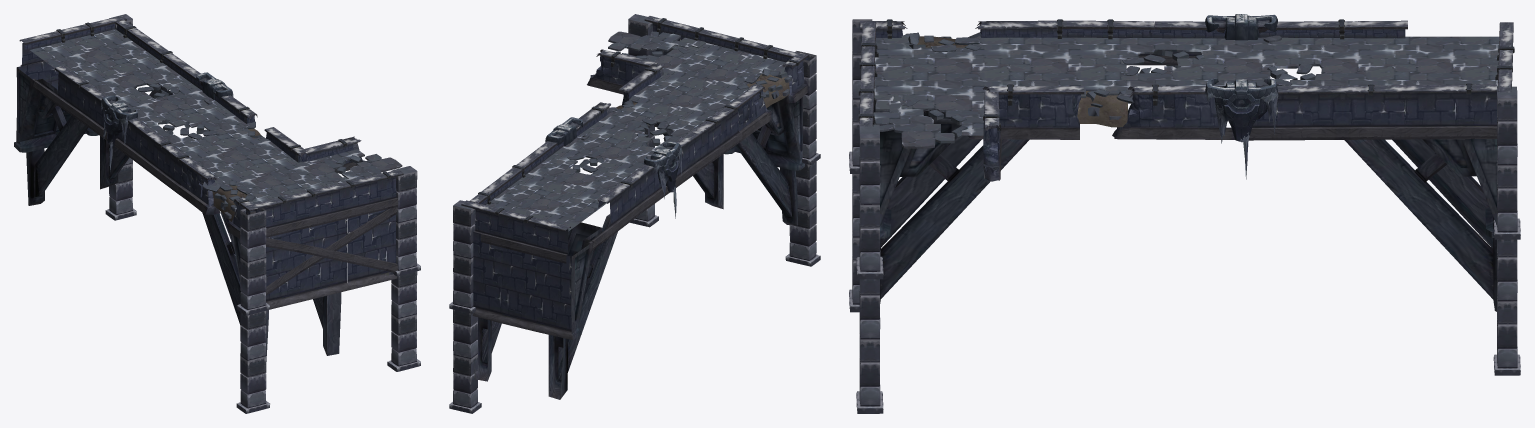
Rendered from Bedaying_yzqiao02.FBX.
The picture shows the model from 3 angles, left to right: view 1: azimuth 30°, elevation 25°; view 2: azimuth 150°, elevation 25°; view 3: azimuth 270°, elevation 25°; orthographic projection. The views are drawn at different scales.
Visible parts, largest first — view 1: Bedaying_yzqiao, Bedaying_yzqiaodimian, Bedaying_yzzhuzi; view 2: Bedaying_yzqiao, Bedaying_yzqiaodimian, Bedaying_yzzhuzi; view 3: Bedaying_yzqiao, Bedaying_yzqiaodimian, Bedaying_yzzhuzi.
Part boxes in pixels (x1,y1,x2,y2): Bedaying_yzqiao: [14, 15, 403, 361]; Bedaying_yzqiaodimian: [30, 29, 402, 218]; Bedaying_yzzhuzi: [105, 14, 420, 413]; Bedaying_yzqiao: [461, 16, 808, 399]; Bedaying_yzqiaodimian: [486, 31, 791, 231]; Bedaying_yzzhuzi: [449, 14, 820, 413]; Bedaying_yzqiao: [858, 14, 1514, 311]; Bedaying_yzqiaodimian: [873, 32, 1499, 148]; Bedaying_yzzhuzi: [849, 19, 1520, 413].
Bounding box in the file's own units: 532 × 1233 × 581.
